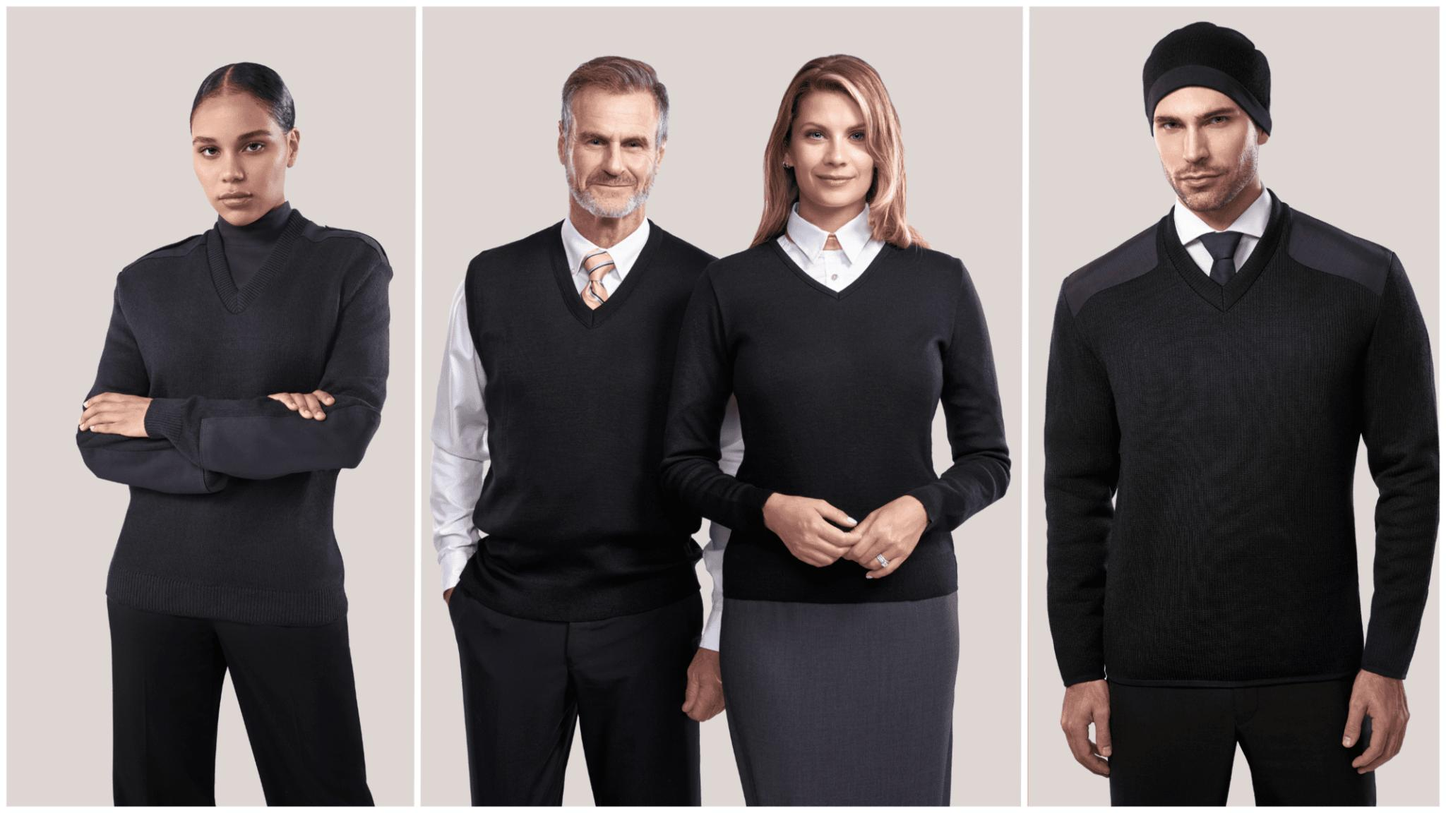long sleeve shirt: (430, 207, 750, 663)
skirt: (715, 586, 962, 813)
sweater: (1040, 187, 1439, 686), (71, 210, 394, 633), (663, 245, 1017, 609)
trousers: (106, 589, 376, 813), (446, 585, 706, 813), (1103, 640, 1378, 813)
vest: (465, 220, 727, 606)
